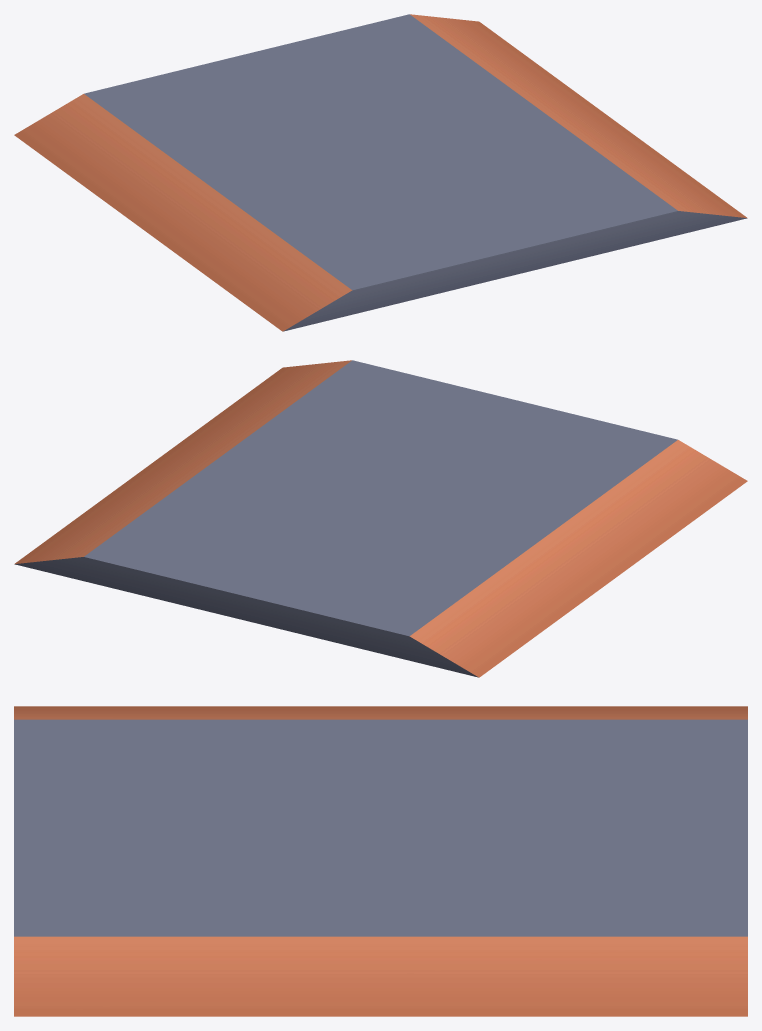
Rendered from sub-path-short.glb.
3 views of the same model, one above another, from view 1: azimuth 30°, elevation 25°; view 2: azimuth 150°, elevation 25°; view 3: azimuth 270°, elevation 25° (orthographic). The views are drawn at different scales.
Parts seen in each view (by area): view 1: path-short; view 2: path-short; view 3: path-short.
Boxes of the visible parts, left/top/right/bottom form: path-short: left=14, top=14, right=747, bottom=331; path-short: left=14, top=360, right=747, bottom=677; path-short: left=14, top=706, right=747, bottom=1016.
Bounding box in the file's own units: 2 × 0.1001 × 2.
1 material, 1 textured.
